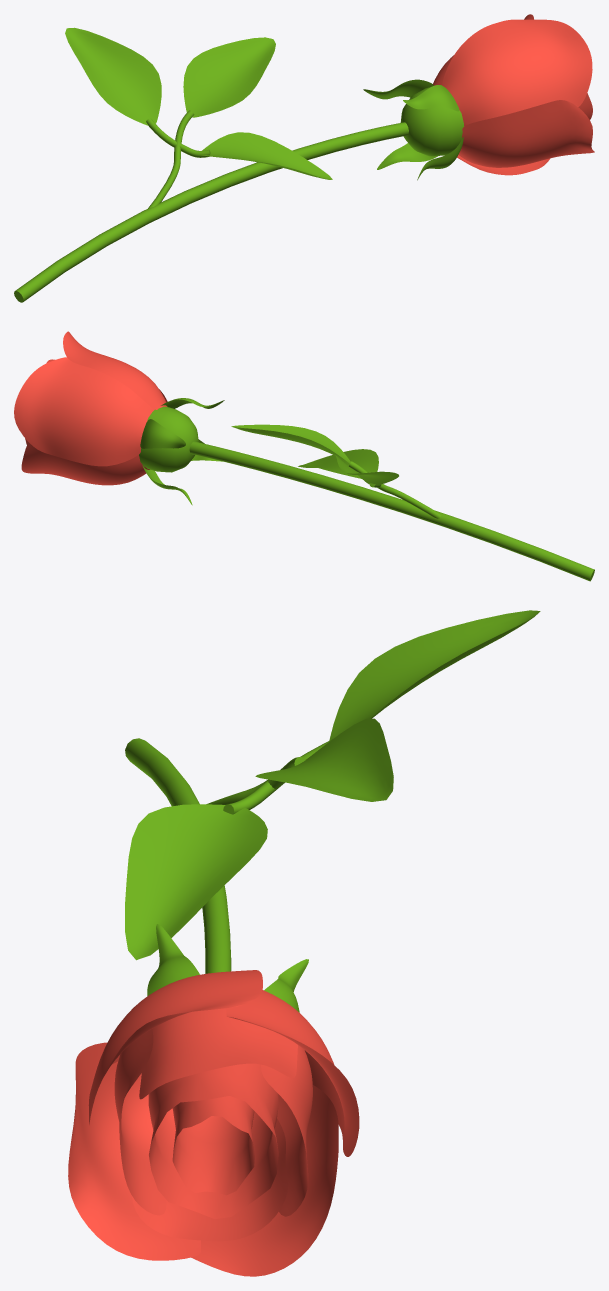
File: Rose.obj
3 renders of one model, top to bottom at view 1: azimuth 30°, elevation 25°; view 2: azimuth 150°, elevation 25°; view 3: azimuth 270°, elevation 25°, orthographic. The views are drawn at different scales.
Visible parts, largest first — view 1: Capsule_7, Capsule, Stipe, Leave_3, Leave, Capsule_9, Leave_5, Leaf_Bottom_5, Stipe_1, Leaf_Bottom_2, Leaf_Bottom_11, Capsule_3 (+2 smaller); view 2: Capsule_5, Stipe, Capsule_3, Capsule_7, Capsule_9, Leave, Leave_5, Leaf_Bottom_2, Stipe_1, Leave_3; view 3: Leave_5, Capsule, More_Inner_Leaves, Capsule_3, Leaf_8, Leave_3, Most_Inner_Leaves, Leave, Capsule_7, Leaf_11, Capsule_5, Leaf_2 (+4 smaller).
Boxes of the visible parts, x1=… form: Capsule_7: x1=442, y1=19, x2=592, y2=123; Capsule: x1=458, y1=100, x2=594, y2=167; Stipe: x1=15, y1=122, x2=408, y2=301; Leave_3: x1=65, y1=27, x2=161, y2=125; Leave: x1=183, y1=37, x2=275, y2=117; Capsule_9: x1=400, y1=85, x2=464, y2=156; Leave_5: x1=201, y1=132, x2=332, y2=179; Leaf_Bottom_5: x1=403, y1=85, x2=459, y2=111; Stipe_1: x1=148, y1=110, x2=194, y2=208; Leaf_Bottom_2: x1=363, y1=79, x2=433, y2=99; Leaf_Bottom_11: x1=377, y1=143, x2=437, y2=169; Capsule_3: x1=457, y1=155, x2=550, y2=175; Capsule_5: x1=14, y1=357, x2=151, y2=466; Stipe: x1=189, y1=441, x2=594, y2=581; Capsule_3: x1=21, y1=442, x2=149, y2=485; Capsule_7: x1=63, y1=331, x2=167, y2=409; Capsule_9: x1=139, y1=406, x2=198, y2=472; Leave: x1=231, y1=424, x2=350, y2=464; Leave_5: x1=298, y1=449, x2=378, y2=478; Leaf_Bottom_2: x1=140, y1=419, x2=185, y2=448; Stipe_1: x1=349, y1=461, x2=441, y2=518; Leave_3: x1=335, y1=455, x2=398, y2=485; Leave_5: x1=125, y1=804, x2=267, y2=960; Capsule: x1=68, y1=1042, x2=200, y2=1260; More_Inner_Leaves: x1=148, y1=1063, x2=278, y2=1218; Capsule_3: x1=191, y1=1085, x2=338, y2=1276; Leaf_8: x1=139, y1=1008, x2=297, y2=1099; Leave_3: x1=329, y1=610, x2=540, y2=740; Most_Inner_Leaves: x1=172, y1=1096, x2=254, y2=1195; Leave: x1=255, y1=718, x2=393, y2=801; Capsule_7: x1=88, y1=970, x2=262, y2=1124; Leaf_11: x1=114, y1=1029, x2=166, y2=1215; Capsule_5: x1=226, y1=990, x2=359, y2=1156; Leaf_2: x1=132, y1=1118, x2=288, y2=1241.
Size of the model in its own units: 187 by 49.41 by 71.55.
